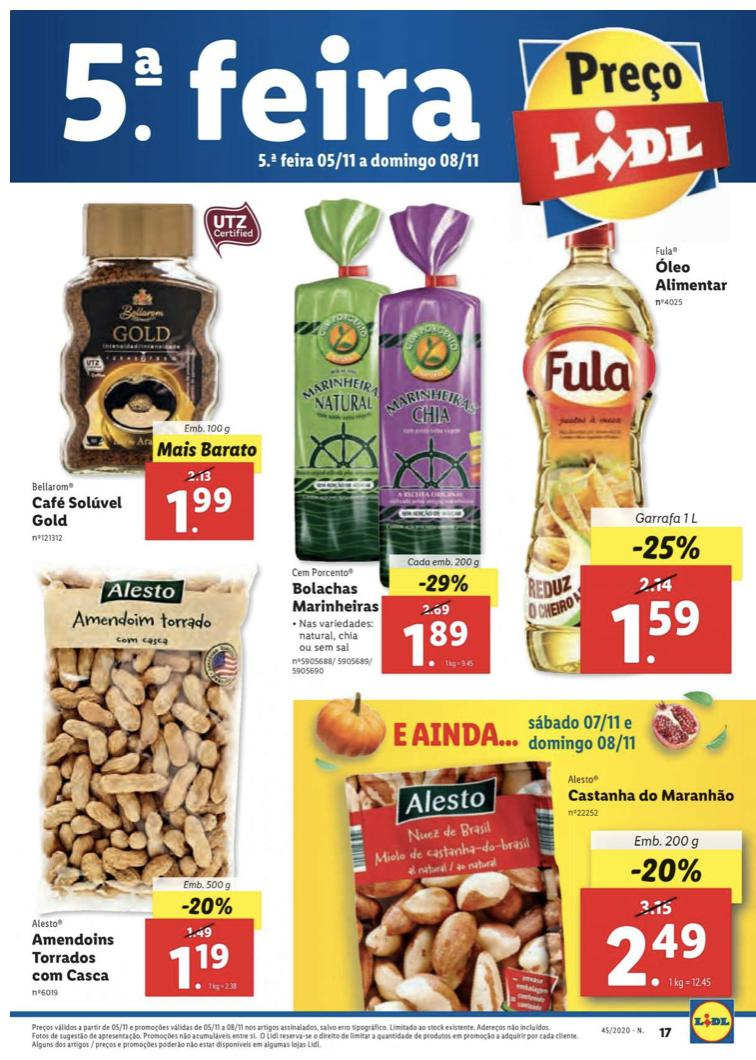name: (21, 930, 124, 985), (279, 577, 380, 617), (25, 492, 132, 529), (647, 257, 733, 297)
price: (600, 917, 724, 993), (600, 597, 709, 676), (146, 477, 259, 540), (391, 615, 495, 677), (161, 939, 251, 996)
product: (276, 186, 512, 697), (16, 561, 282, 1005), (512, 229, 746, 697), (321, 756, 743, 1009), (18, 188, 276, 544)
promotion: (624, 523, 709, 567), (618, 851, 709, 888), (171, 892, 241, 918), (417, 568, 471, 596)
